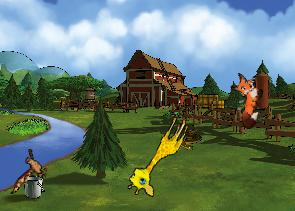eagle: (10, 147, 49, 196)
fox: (221, 71, 268, 130)
giraffe: (123, 108, 192, 202)
